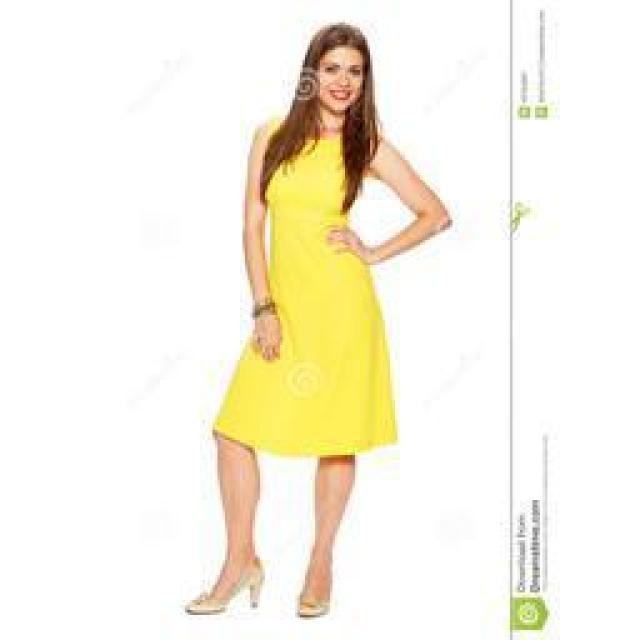dress: (210, 116, 400, 456)
